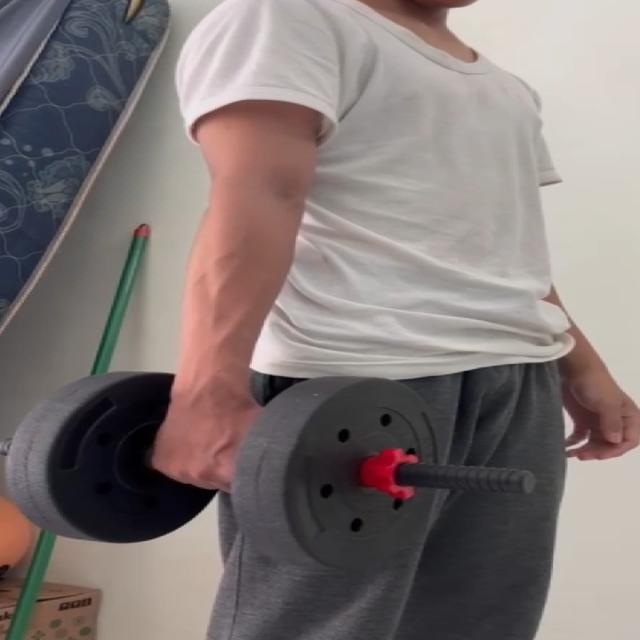hammer: (4, 367, 448, 575)
